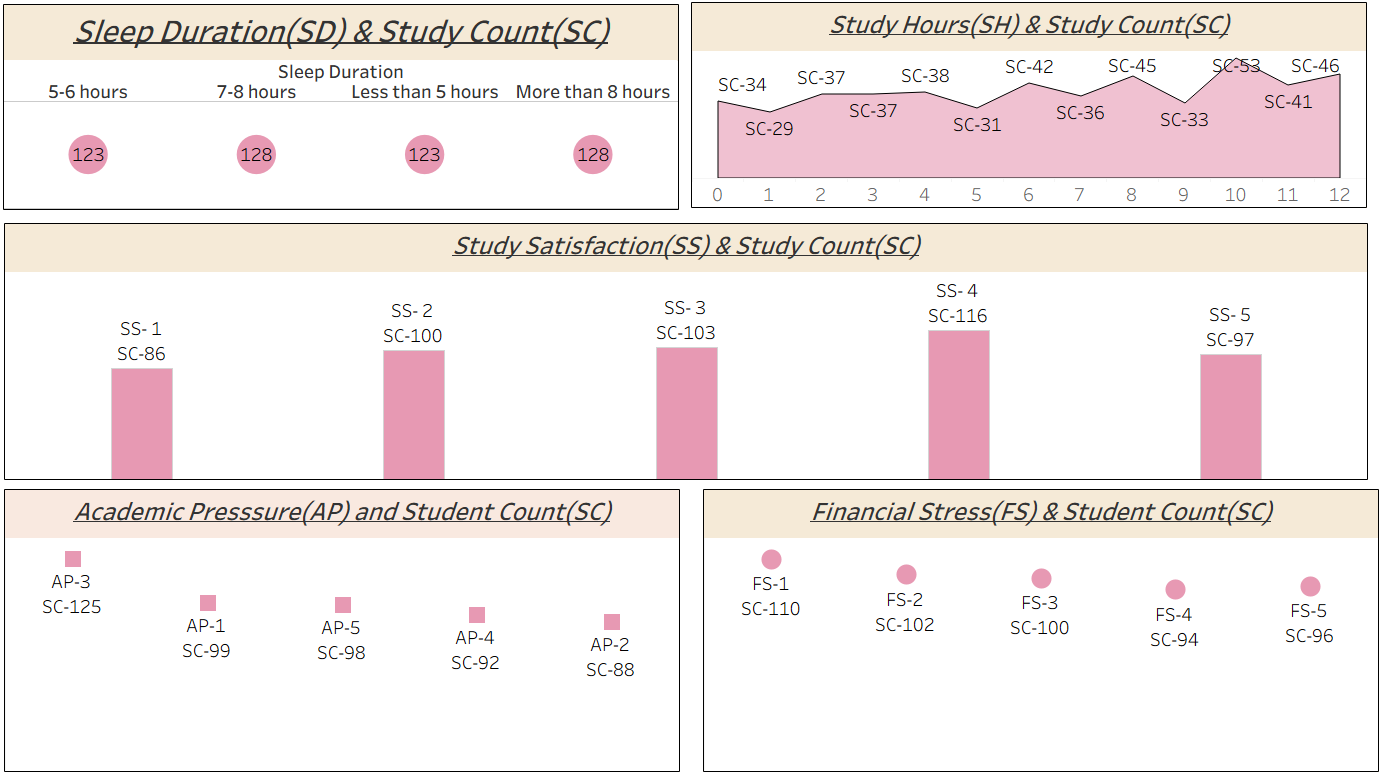

Layout of this report page (visuals, bound fields, positions):
{"tool":"tableau","page":{"name":"Student Count Analysis","canvas":[1000,1000],"units":"permille","ordinal":0},"visuals":[{"type":"worksheet","title":"SH & SC","mark":"Area","rows":["index_column"],"cols":["Study_Hours"],"box":[438.9,16.1,421.4,255.6]},{"type":"worksheet","title":"SD & SC","mark":"Pie","cols":["Sleep_Duration"],"box":[10,18.6,421.4,255.6]},{"type":"worksheet","title":"SS & SC","mark":"Automatic","rows":["index_column"],"cols":["Study_Satisfaction"],"box":[10.6,290.3,850.4,318.9]},{"type":"worksheet","title":"AP & SC","mark":"Square","rows":["index_column"],"cols":["Academic_Pressure"],"box":[10.6,620.4,421.4,351.1]},{"type":"worksheet","title":"FS & SC","mark":"Circle","rows":["index_column"],"cols":["Financial_Stress"],"box":[446.4,620.4,421.4,351.1]}]}

Visuals, with their boxes on the dashboard's canvas, which has no fixed pixel size, in thousandths of its width and height (x1, y1, x2, y2). These are canvas units, not pixel positions in the 1383x773 screenshot, which may show the page scaled, cropped or inside an application window:
"SH & SC" worksheet (Area marks): BBox(439, 16, 860, 272)
"SD & SC" worksheet (Pie marks): BBox(10, 19, 431, 274)
"SS & SC" worksheet: BBox(11, 290, 861, 609)
"AP & SC" worksheet (Square marks): BBox(11, 620, 432, 972)
"FS & SC" worksheet (Circle marks): BBox(446, 620, 868, 972)
